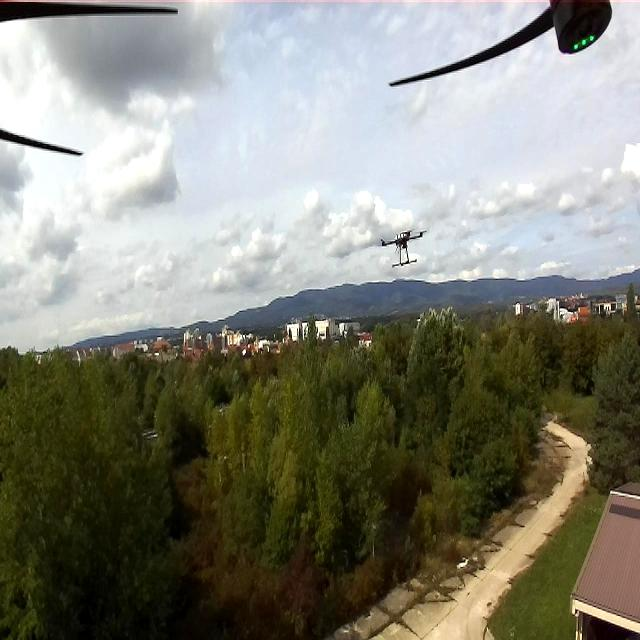drone: (379, 222, 425, 268)
